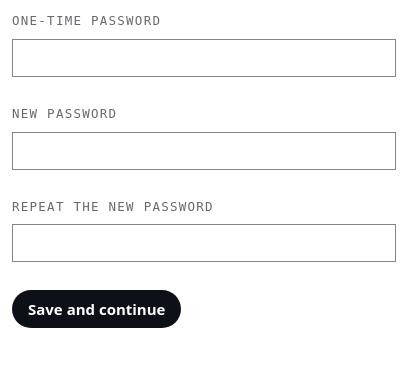
Test: ChangePasswordForm, a refused change › blames only the current password when the API rejects that one
The image size is (413, 372).
Click the button "Save and continue" at (97, 309), box [12,290,182,328]
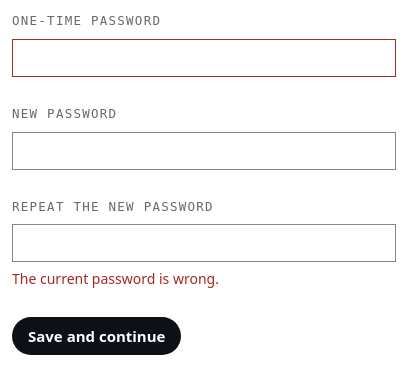
expect the message "The current password is wrong." is shown: met, box [12,269,219,288]
